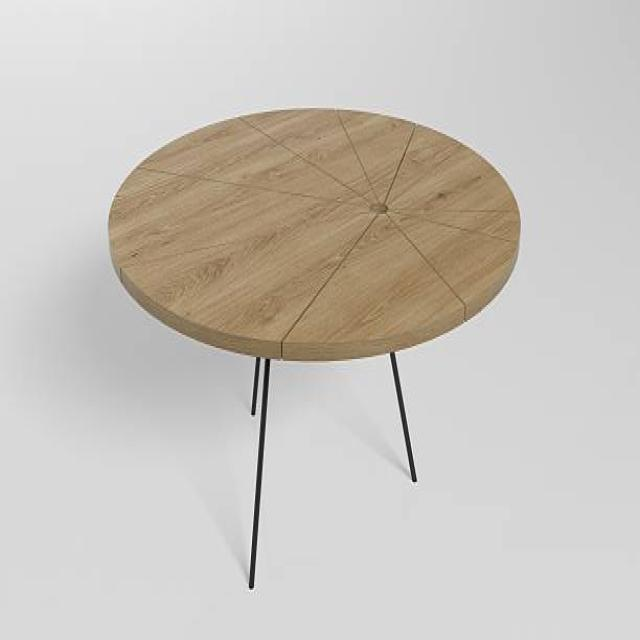table: (107, 104, 520, 588)
